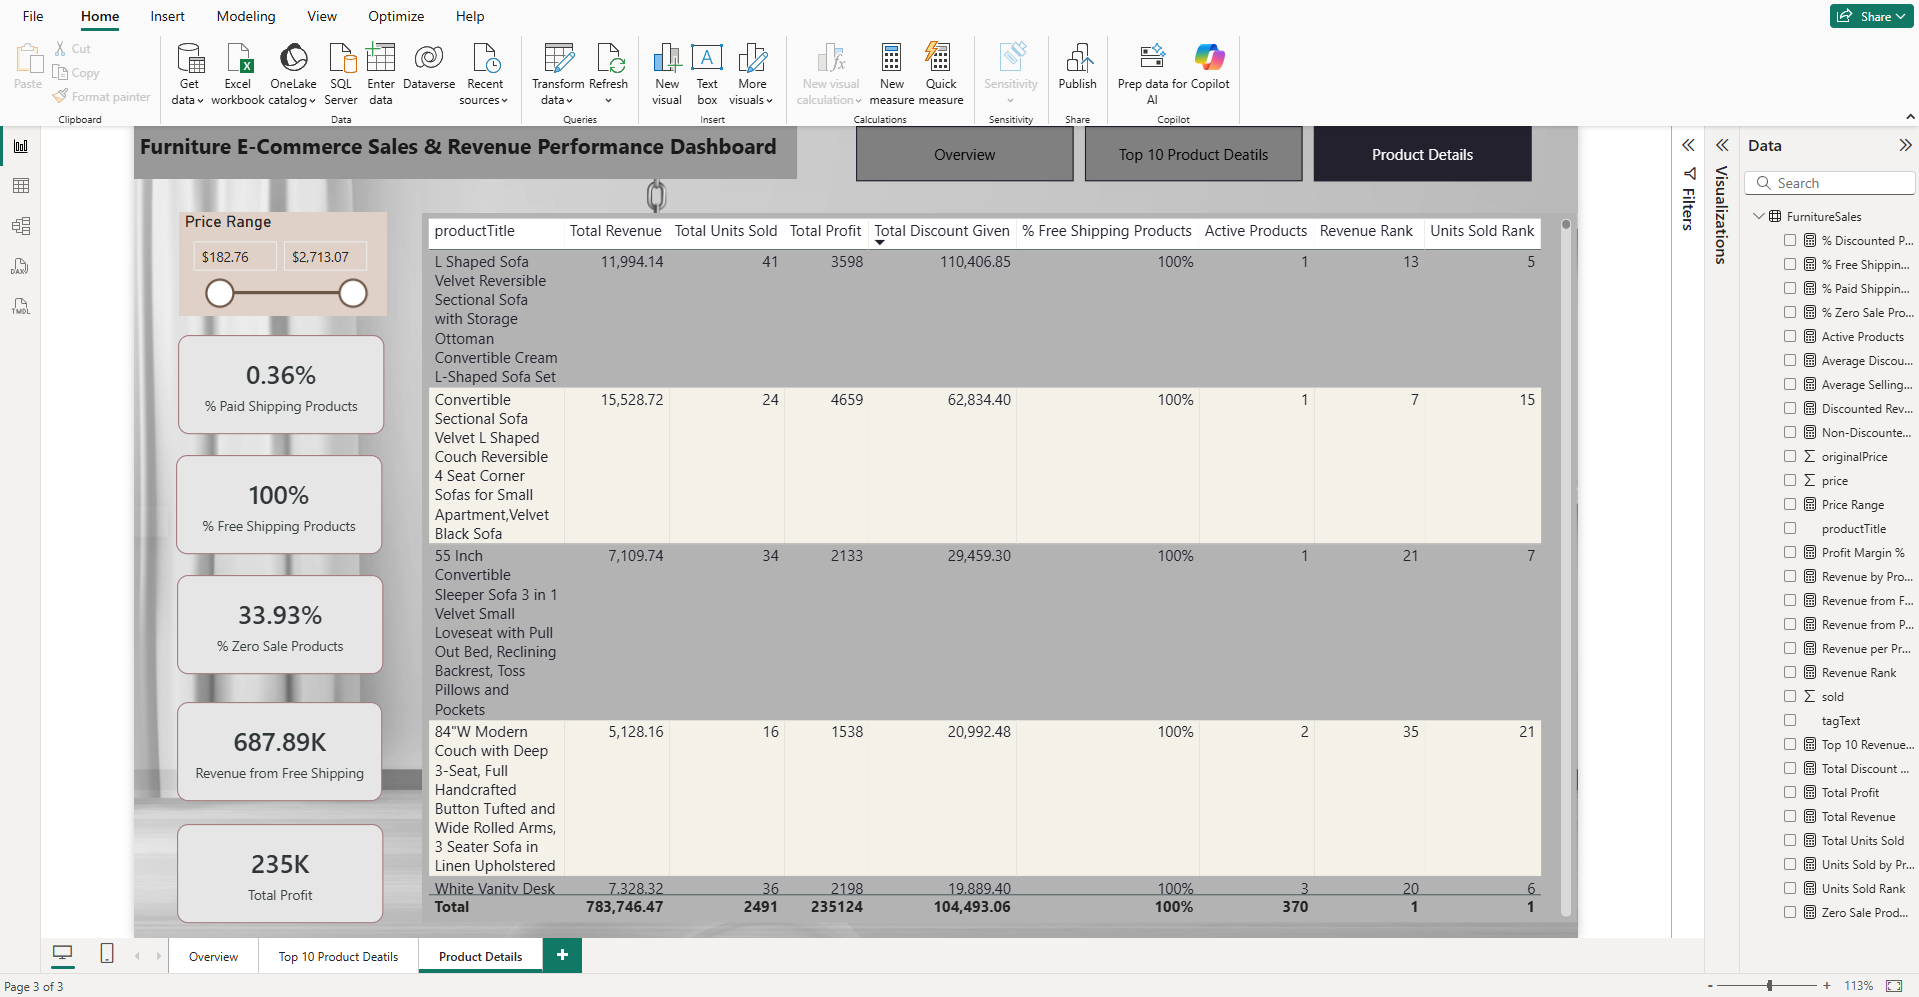

This screenshot's page, from the dashboard's own definition file:
{"tool":"powerbi","page":{"name":"Product Details","canvas":[1280,720],"ordinal":2},"visuals":[{"type":"actionButton","box":[0,0,100,40],"z":0},{"type":"textbox","box":[0,0,588.4,46.7],"z":1000},{"type":"tableEx","fields":{"Values":["FurnitureSales.productTitle","FurnitureSales.Total Revenue","FurnitureSales.Total Units Sold","FurnitureSales.Total Profit","FurnitureSales.Total Discount Given","FurnitureSales.% Free Shipping Products","FurnitureSales.Active Products","FurnitureSales.Revenue Rank","FurnitureSales.Units Sold Rank"]},"box":[255.8,76.8,1024.2,629.3],"z":2000},{"type":"slicer","title":"Price Range","fields":{"Values":["FurnitureSales.price"]},"box":[39.9,76.4,183.8,92.4],"z":3000},{"type":"card","title":"Top 10 Revenue Contribution","fields":{"Values":["FurnitureSales.% Paid Shipping Products"]},"box":[38.9,185.3,182.9,87.5],"z":4000},{"type":"card","title":"Top 10 Revenue Contribution","fields":{"Values":["FurnitureSales.% Free Shipping Products"]},"box":[37,291.3,182.9,87.5],"z":5000},{"type":"card","title":"Top 10 Revenue Contribution","fields":{"Values":["FurnitureSales.% Zero Sale Products"]},"box":[37.9,398.3,182.9,87.5],"z":6000},{"type":"card","title":"Top 10 Revenue Contribution","fields":{"Values":["FurnitureSales.Revenue from Free Shipping"]},"box":[37.9,511.1,181.9,87.5],"z":7000},{"type":"card","title":"Top 10 Revenue Contribution","fields":{"Values":["FurnitureSales.Total Profit"]},"box":[37.9,619.1,182.9,87.5],"z":8000},{"type":"pageNavigator","box":[640,0,600.1,49.6],"z":9000}]}

Visuals, with their boxes on the page's 1280x720 design canvas (x1, y1, x2, y2). These are canvas units, not pixel positions in the 1919x997 screenshot, which may show the page scaled, cropped or inside an application window:
actionButton: detection(0, 0, 100, 40)
textbox: detection(0, 0, 588, 47)
tableEx - FurnitureSales.productTitle x FurnitureSales.Total Revenue: detection(256, 77, 1280, 706)
"Price Range" slicer: detection(40, 76, 224, 169)
"Top 10 Revenue Contribution" card: detection(39, 185, 222, 273)
"Top 10 Revenue Contribution" card: detection(37, 291, 220, 379)
"Top 10 Revenue Contribution" card: detection(38, 398, 221, 486)
"Top 10 Revenue Contribution" card: detection(38, 511, 220, 599)
"Top 10 Revenue Contribution" card: detection(38, 619, 221, 707)
pageNavigator: detection(640, 0, 1240, 50)
